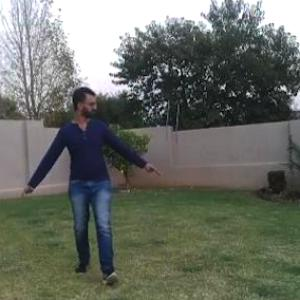land: (5, 84, 165, 294)
